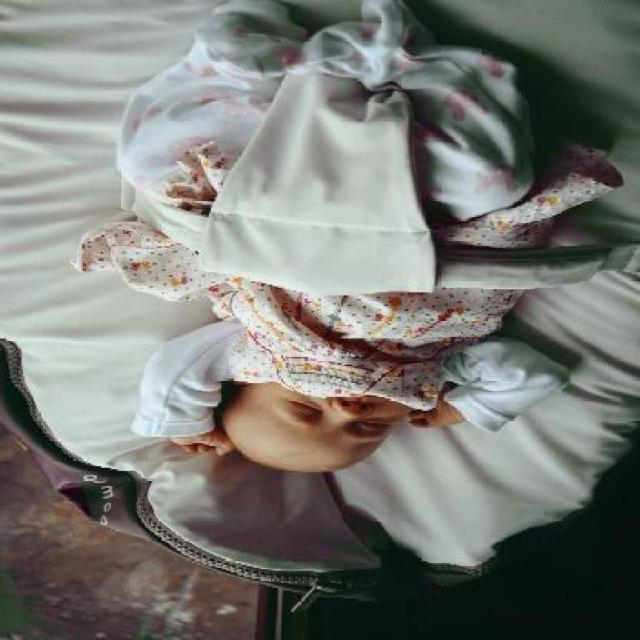baby: (110, 1, 568, 478)
